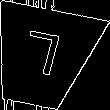L_S: (17, 29, 67, 86)
